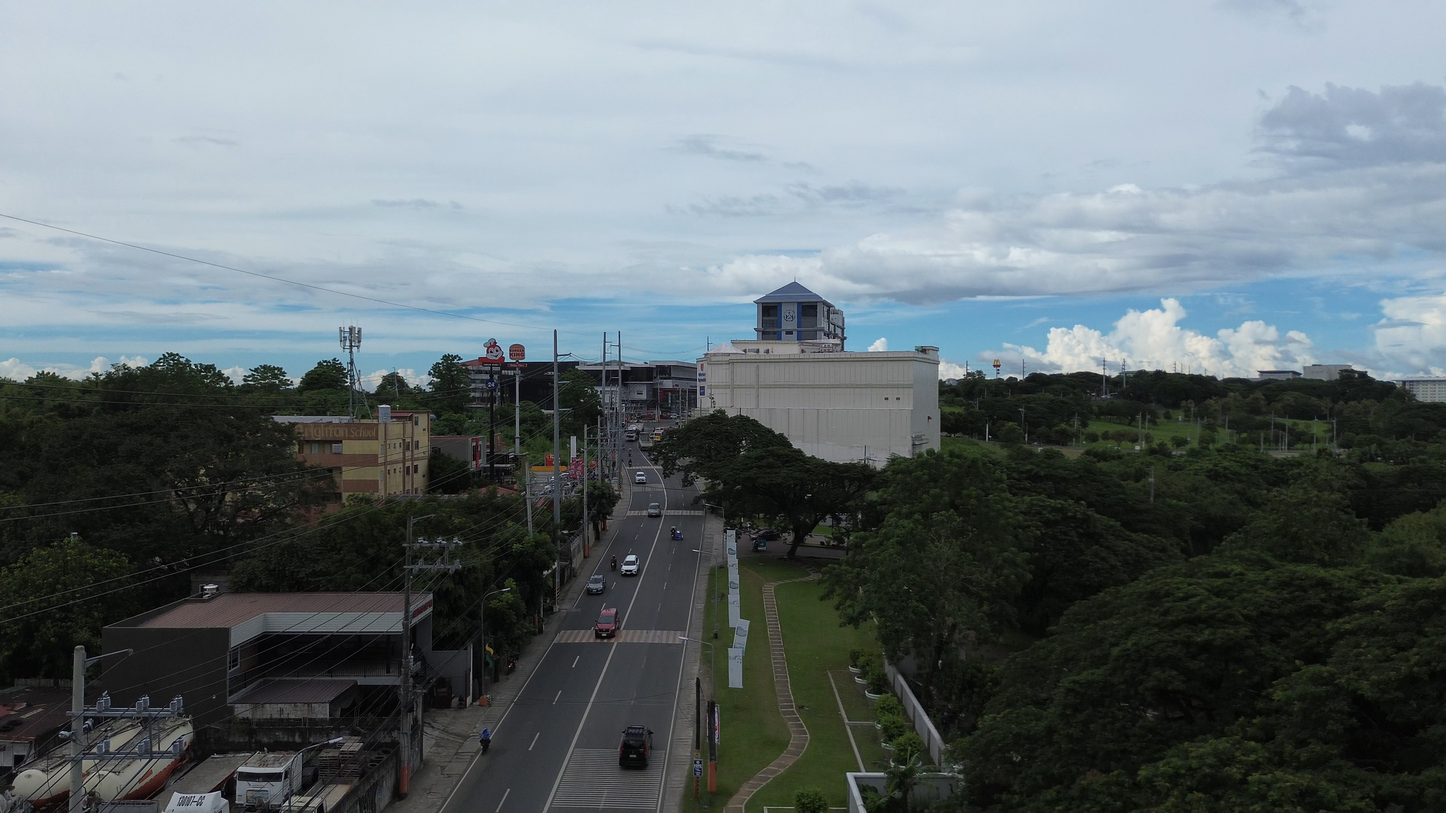car: (586, 574, 605, 594), (621, 554, 639, 575), (647, 502, 662, 517), (633, 470, 647, 484)
vehicle: (82, 715, 194, 802), (236, 752, 305, 811), (619, 725, 653, 768), (164, 792, 229, 813), (594, 607, 619, 638), (752, 537, 767, 551), (625, 429, 637, 441), (671, 528, 683, 540), (651, 431, 662, 443)
